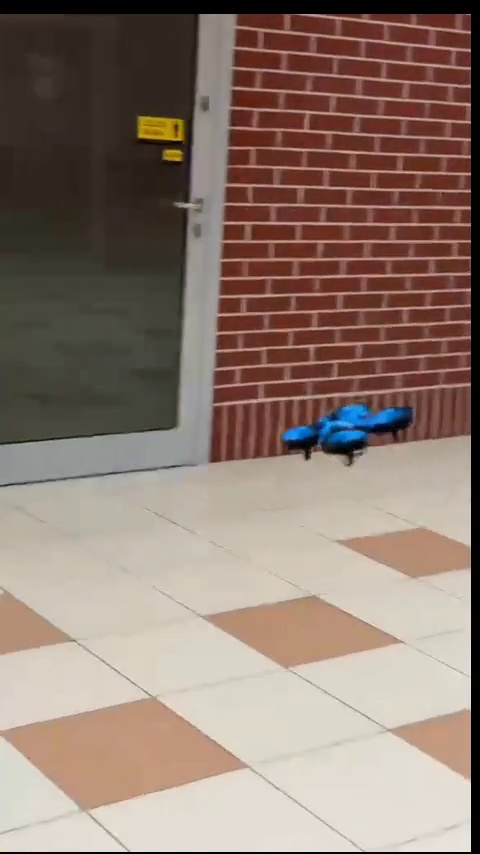drone: (289, 398, 414, 464)
